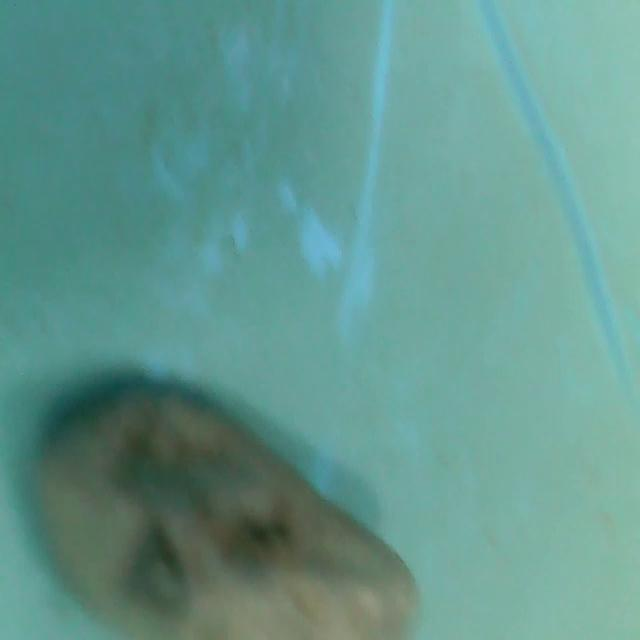rock: (28, 378, 426, 640)
